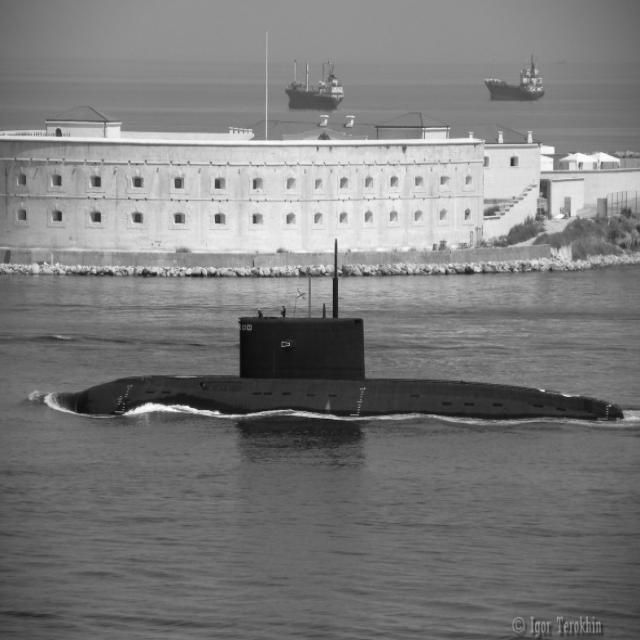submarine: (58, 242, 628, 422)
